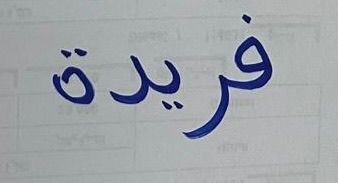dal: (101, 47, 148, 113)
feh: (230, 9, 280, 98)
reh: (185, 65, 229, 143)
teh_marbota: (38, 36, 98, 111)
yeh: (149, 48, 184, 116)
